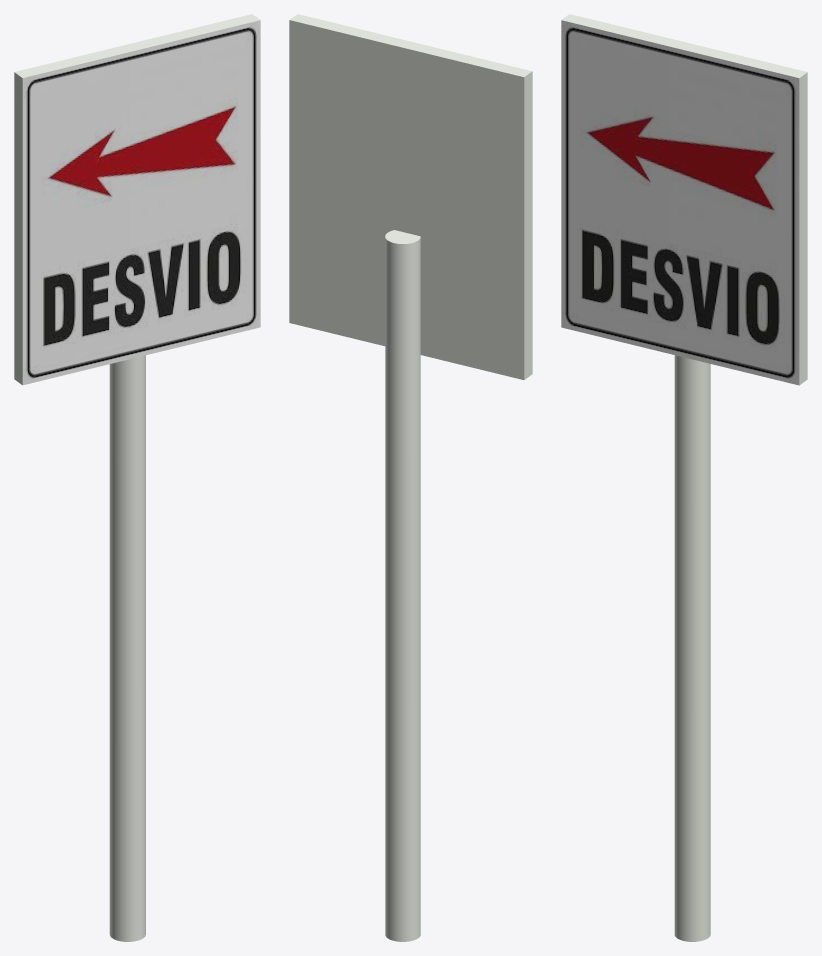
The model's file is desvío izquierda.fbx.
3 renders of one model, left to right at view 1: azimuth 30°, elevation 25°; view 2: azimuth 150°, elevation 25°; view 3: azimuth 330°, elevation 25°, orthographic.
Visible parts, largest first — view 1: Cylinder.003; view 2: Cylinder.003; view 3: Cylinder.003.
Part boxes in pixels (x1,y1,x2,y2): Cylinder.003: (14,14,260,941); Cylinder.003: (289,14,532,941); Cylinder.003: (561,14,807,941).
Size of the model in its own units: 76.11 by 273 by 12.24.
2 materials, 2 textured.
